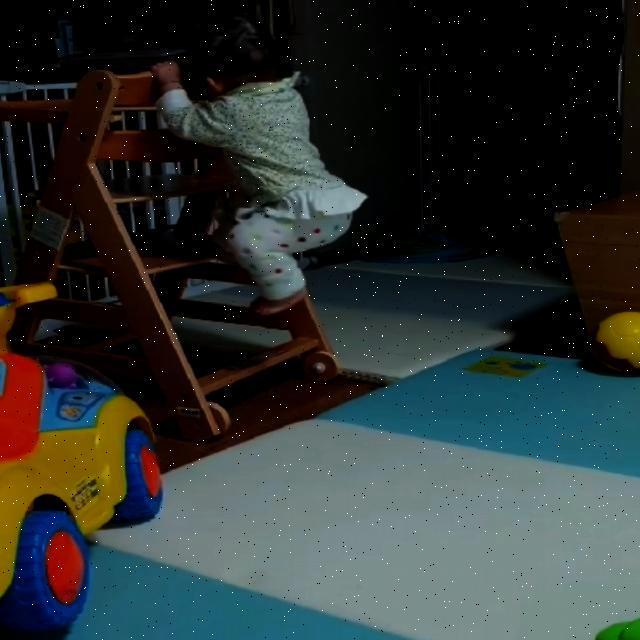child: (155, 16, 364, 322)
